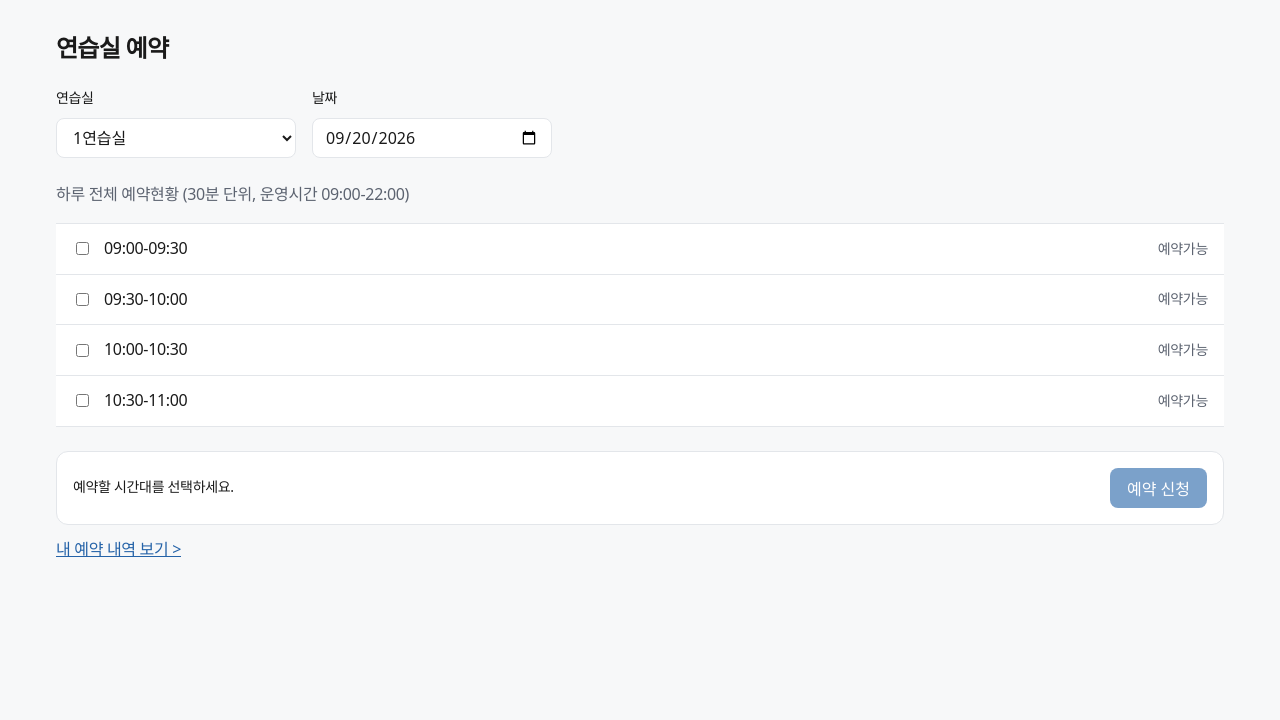
연속 슬롯 선택 › 선택 요약에 시작~종료와 슬롯 수가 나온다
Expected: the text "09:00-09:30" is shown, [104,236,187,262]
Step 1. Click the checkbox labelled "09:00-09:30 예약가능" → coordinates (82, 249), box [76,242,89,256]
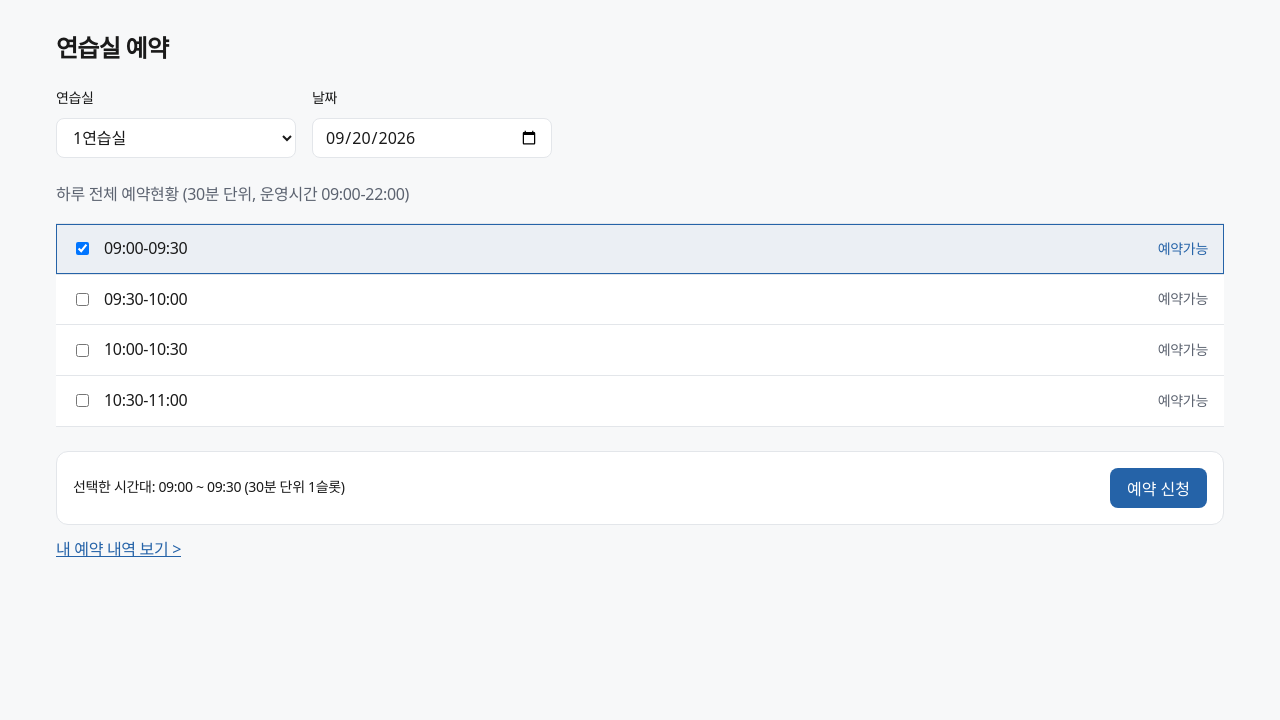
Step 2. Click the checkbox labelled "09:30-10:00 예약가능" → coordinates (82, 300), box [76,293,89,306]
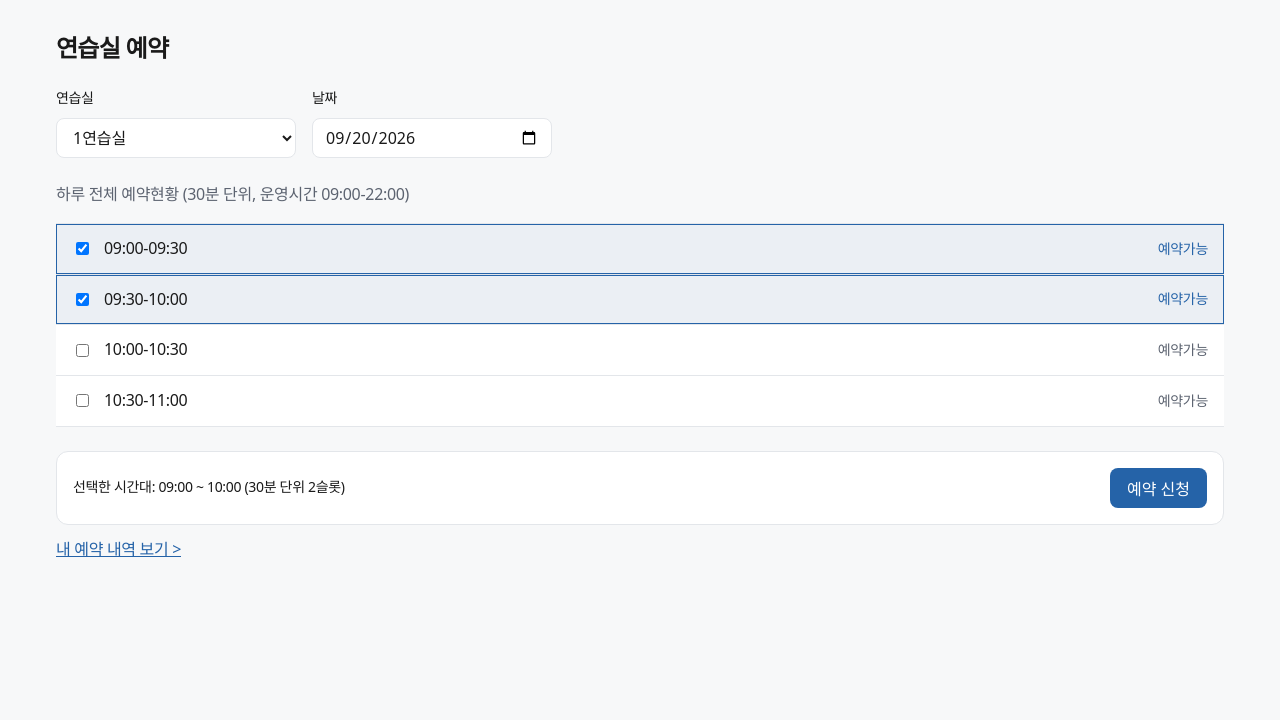
Step 3. Click the checkbox labelled "10:00-10:30 예약가능" → coordinates (82, 350), box [76,344,89,357]
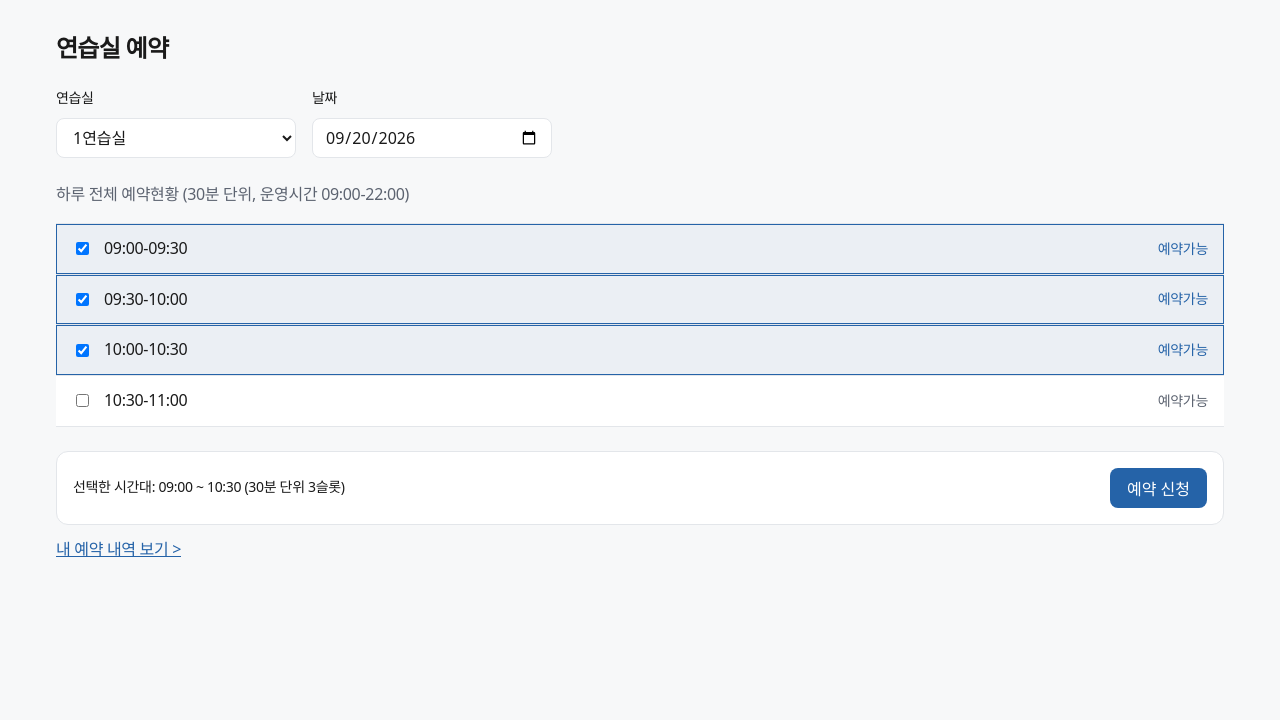
Result: the text "선택한 시간대: 09:00 ~ 10:30 (30분 단위 3슬롯)" is shown at [73,476,345,499]
